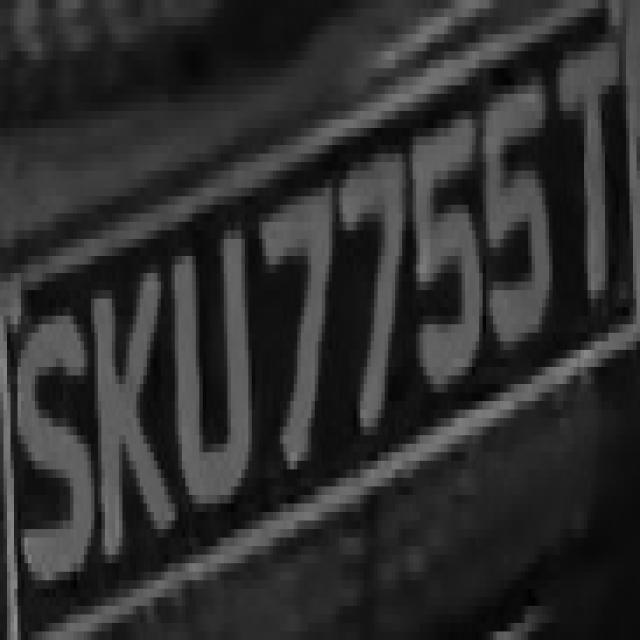5: (402, 103, 486, 410), (482, 51, 552, 410)
7: (328, 128, 406, 503), (248, 188, 329, 512)
K: (87, 230, 168, 598)
S: (17, 264, 94, 598)
T: (535, 26, 630, 341)
U: (164, 196, 252, 538)
